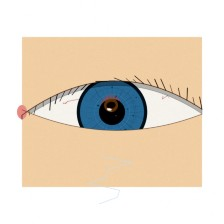foreign_body_visible: (88, 87, 134, 124)
